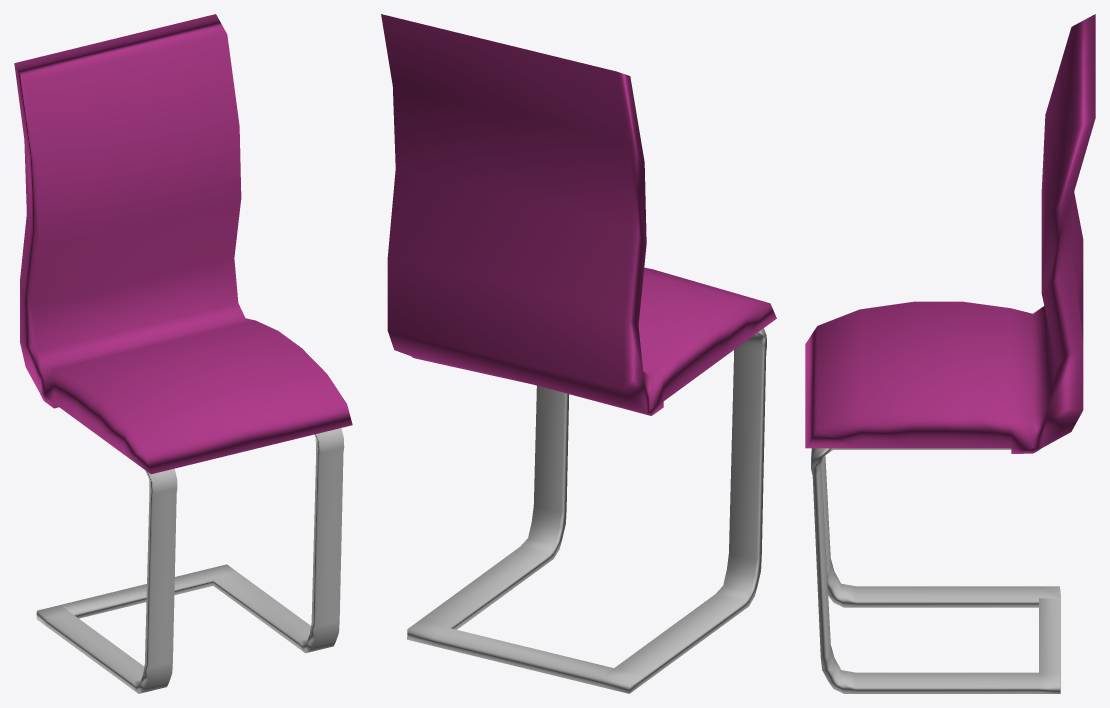
The model's file is cantileverchair_red.fbx.
3 views of the same model, side by side, from view 1: azimuth 30°, elevation 25°; view 2: azimuth 150°, elevation 25°; view 3: azimuth 270°, elevation 25° (orthographic). The views are drawn at different scales.
Visible parts, largest first — view 1: polySurface1; view 2: polySurface1; view 3: polySurface1.
Part boxes in pixels (x1,y1,x2,y2): polySurface1: (14, 14, 352, 693); polySurface1: (381, 14, 776, 693); polySurface1: (805, 14, 1095, 693).
Size of the model in its own units: 1.81 by 4.68 by 2.13.
